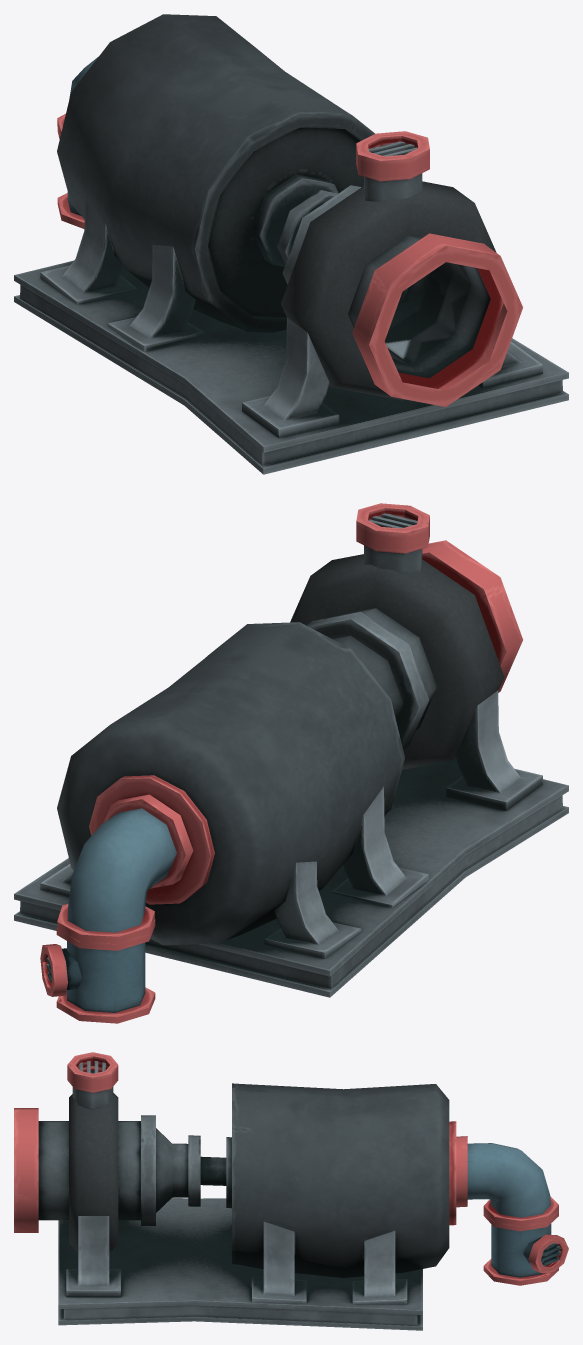
Rendered from Pump.fbx.
3 renders of one model, top to bottom at view 1: azimuth 30°, elevation 25°; view 2: azimuth 150°, elevation 25°; view 3: azimuth 270°, elevation 25°, orthographic. The views are drawn at different scales.
Parts seen in each view (by area): view 1: Support_LP.001; view 2: Support_LP.001; view 3: Support_LP.001.
Part boxes in pixels (x1=…): Support_LP.001: x1=14, y1=14, x2=568, y2=474; Support_LP.001: x1=14, y1=503, x2=568, y2=1023; Support_LP.001: x1=14, y1=1052, x2=568, y2=1330.
Bounding box in the file's own units: 258 × 220 × 525.
